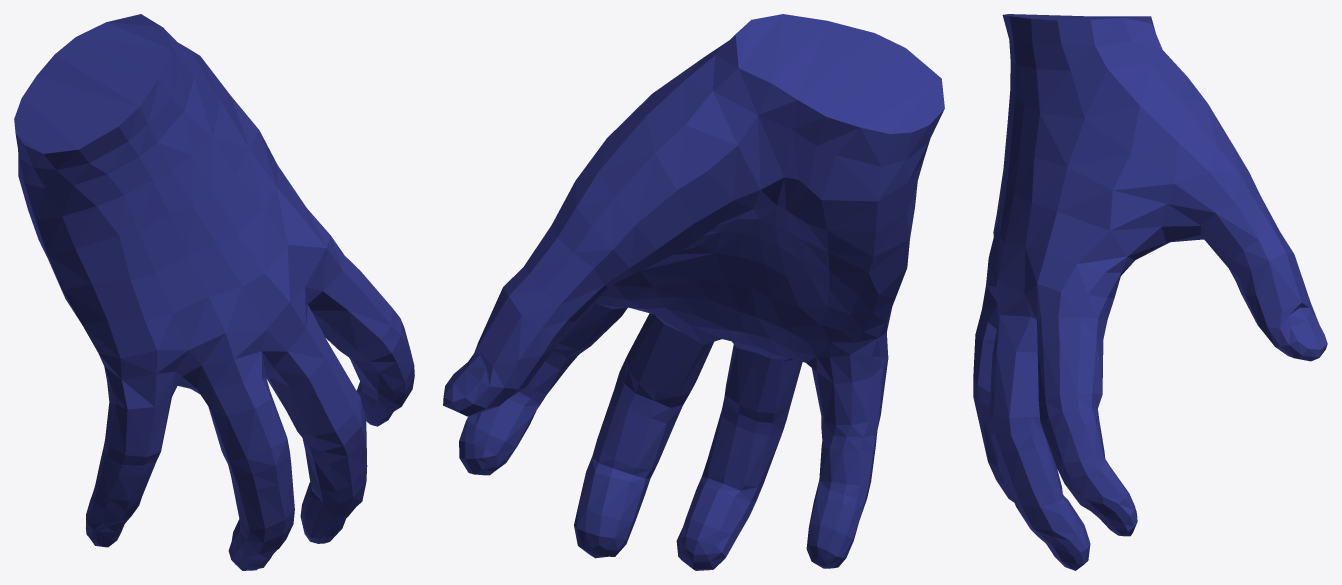
3 renders of one model, left to right at view 1: azimuth 30°, elevation 25°; view 2: azimuth 150°, elevation 25°; view 3: azimuth 270°, elevation 25°, orthographic. The views are drawn at different scales.
Size of the model in its own units: 0.135 by 0.175 by 0.1159.
